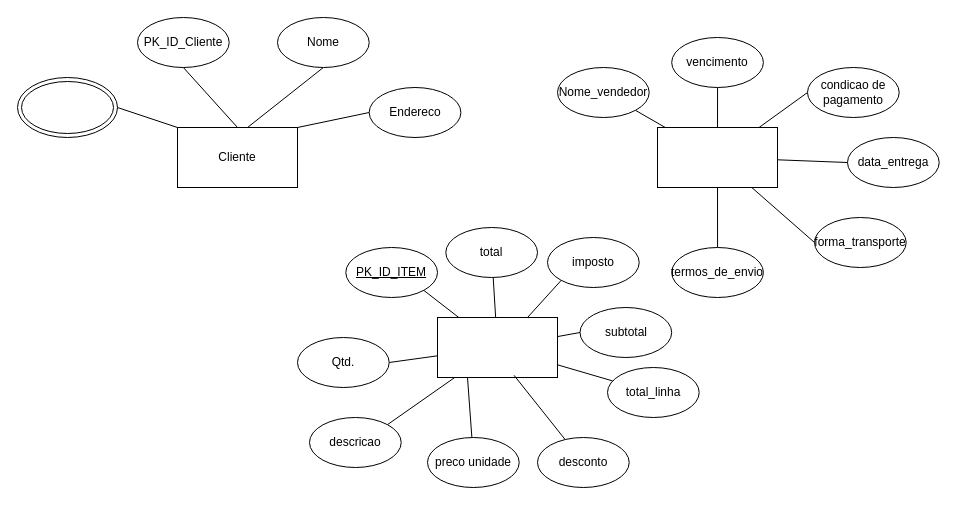
The diagram is 957 pixels wide and 505 high, and some of its shapes have lost their labels. Each missing label, with the centre of its shape:
"Cobranca" goes at (x=717, y=157).
"fatura" goes at (x=497, y=347).
"Telefone" goes at (x=67, y=107).
